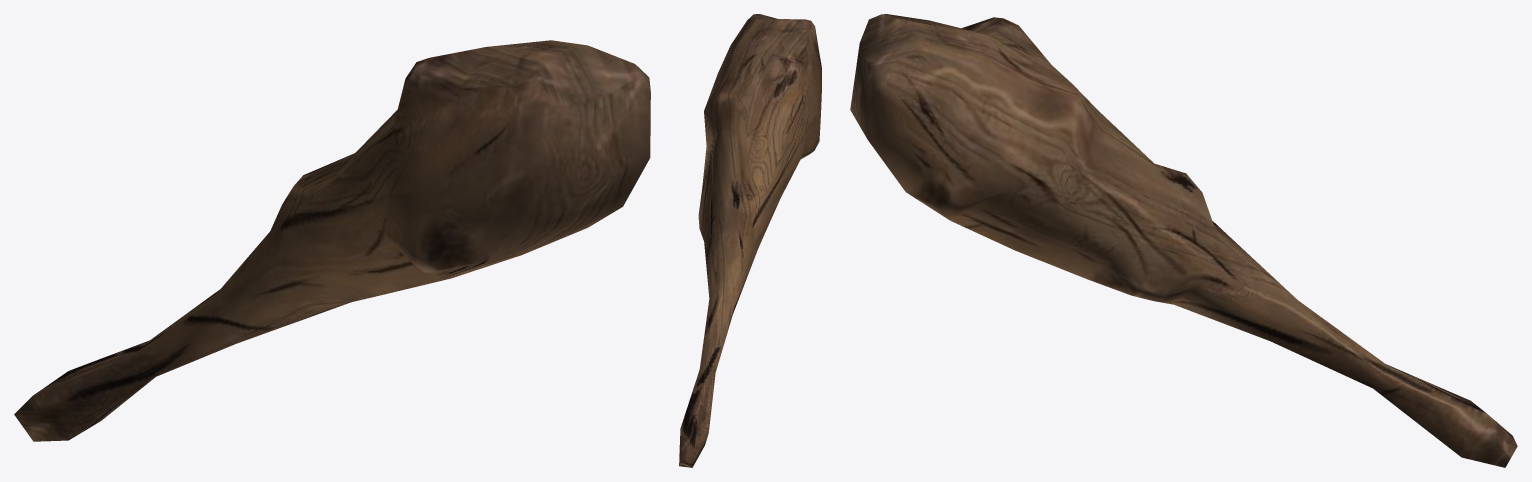
File: weapon-base.glb
3 views of the same model, side by side, from view 1: azimuth 30°, elevation 25°; view 2: azimuth 150°, elevation 25°; view 3: azimuth 270°, elevation 25° (orthographic). The views are drawn at different scales.
Size of the model in its own units: 0.4721 by 0.9459 by 1.13.
Materials: 1 (1 with a texture image).
